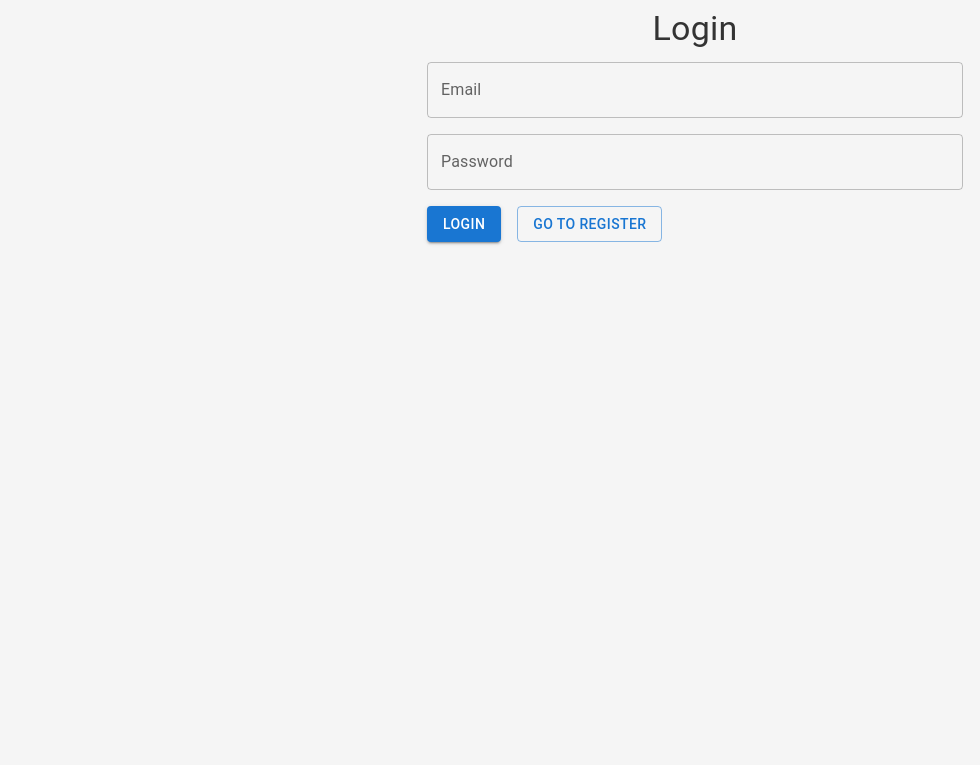
Test: Login Page › renders login form and submits
Type "test@example.com" into the field labelled "Email". click: (695, 90)
box: [427,62,963,118]
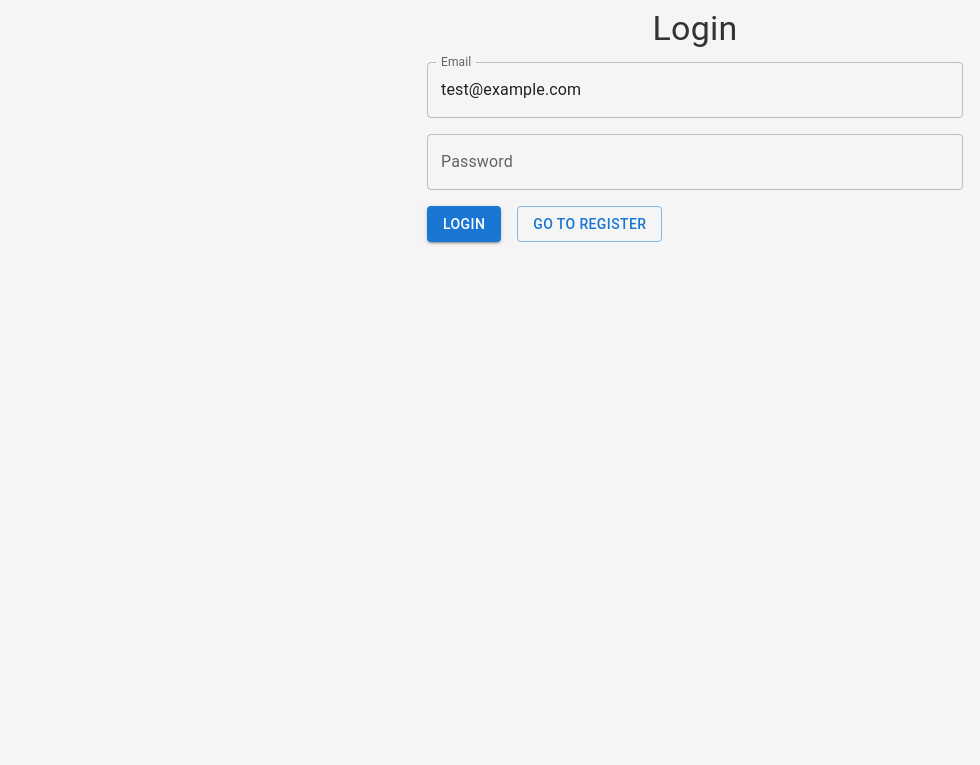
Type "password" into the password field labelled "Password". click: (695, 162)
box: [427,134,963,190]
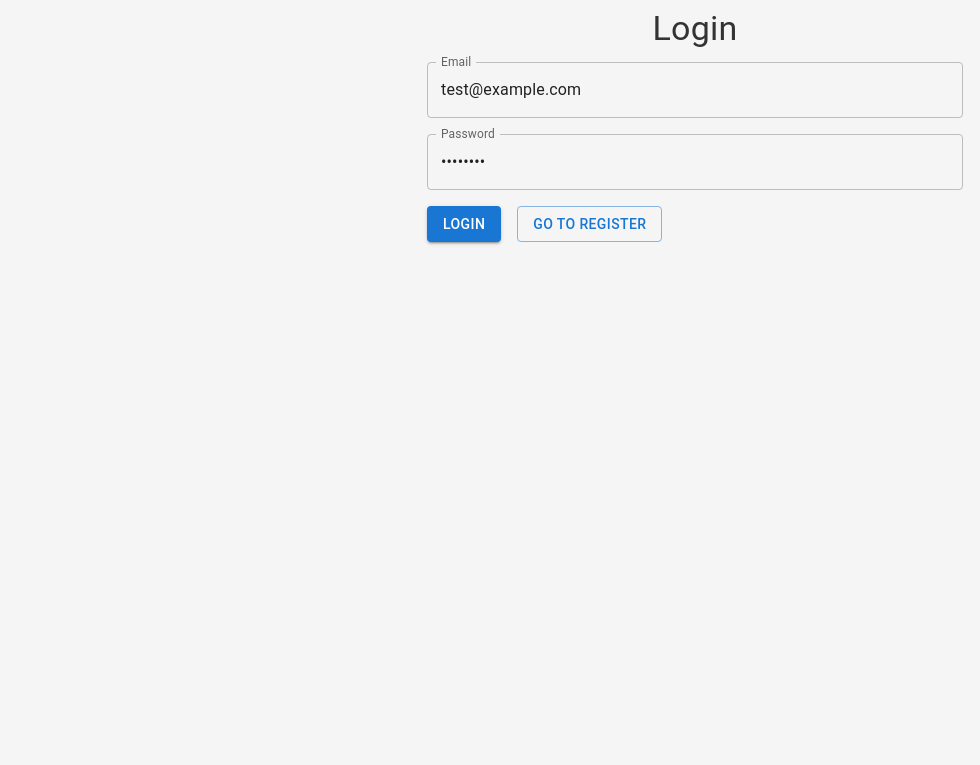
Click the button "Login". click: (464, 224)
box: [427,206,501,242]
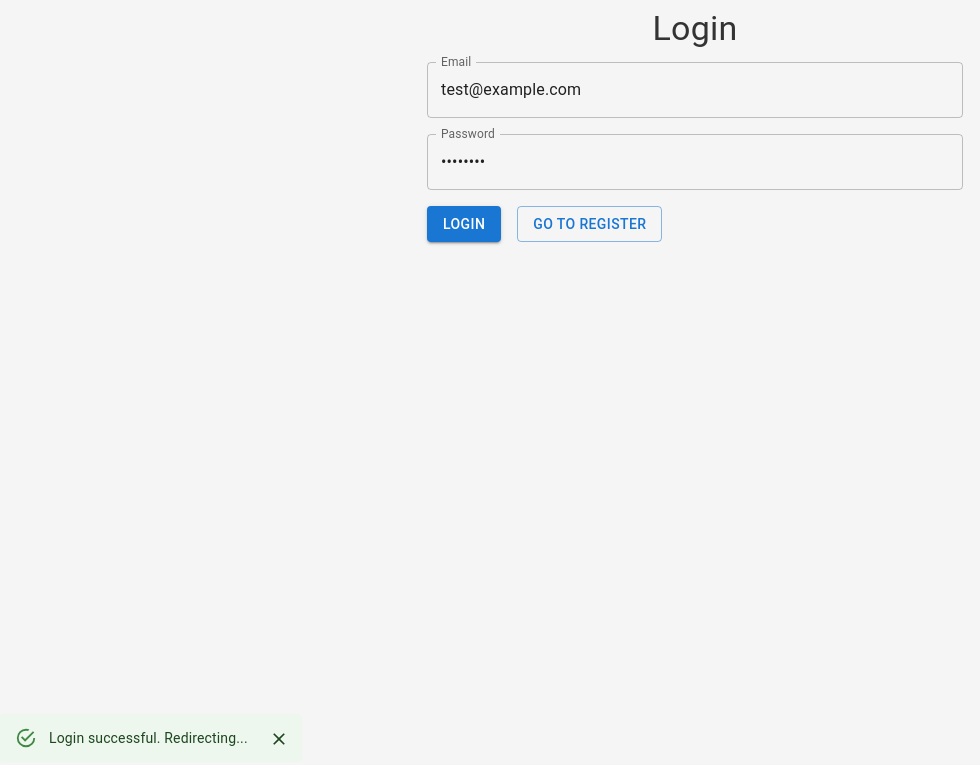
Check: the text "Login successful. Redirecting..." is shown, box [49,730,248,746]
